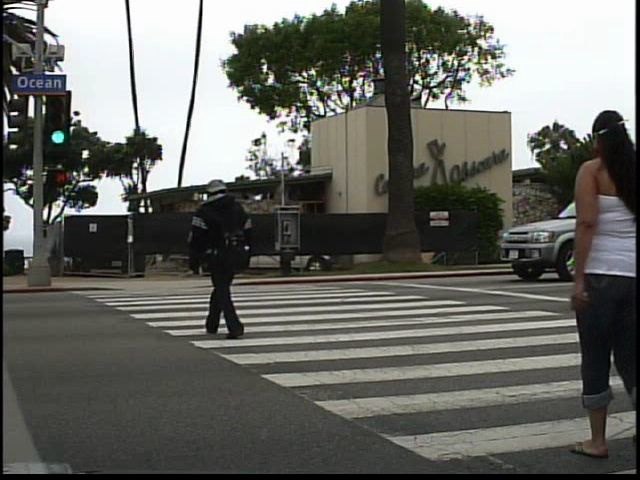person: (548, 103, 636, 468), (182, 166, 272, 350)
